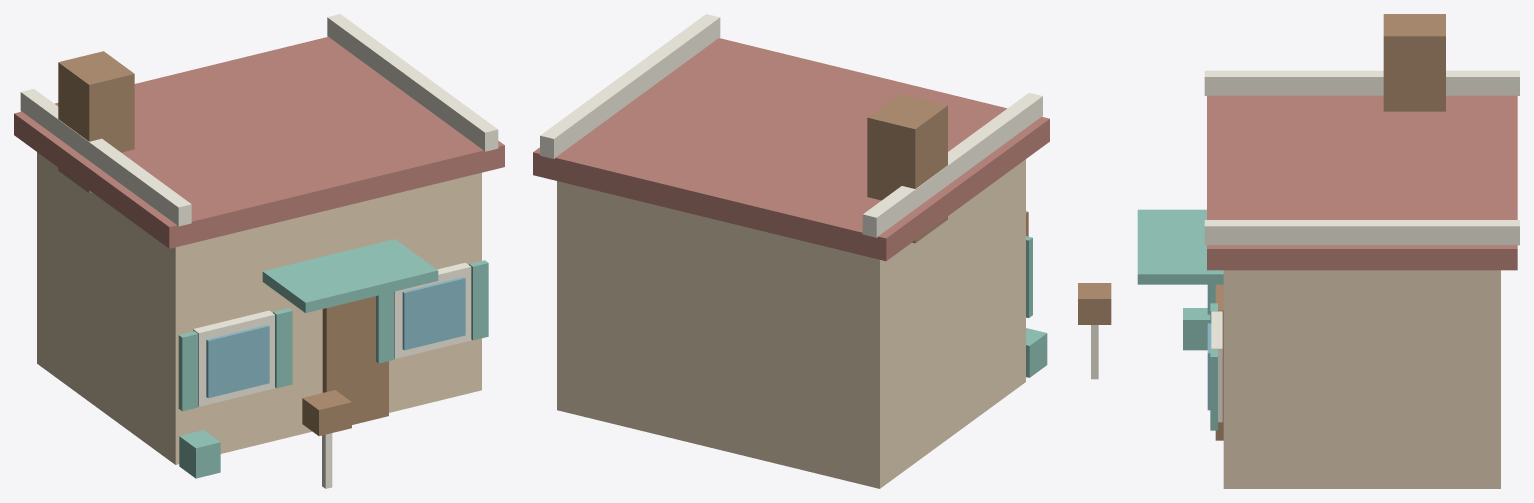
The model's file is home-06.glb.
The picture shows the model from 3 angles, left to right: view 1: azimuth 30°, elevation 25°; view 2: azimuth 150°, elevation 25°; view 3: azimuth 270°, elevation 25°; orthographic projection. The views are drawn at different scales.
Parts seen in each view (by area): view 1: individual walls.005, flat parapet roof.001, letterbox post.004, entrance awning.001, front door.006, window pane.003; view 2: individual walls.005, flat parapet roof.001, letterbox post.004, front door.006, entrance awning.001; view 3: individual walls.005, flat parapet roof.001, letterbox post.004, front door.006, entrance awning.001, window pane.003.
Boxes of the visible parts, bbox=[...] form: individual walls.005: bbox=[37, 152, 481, 464]; flat parapet roof.001: bbox=[14, 36, 504, 248]; letterbox post.004: bbox=[20, 14, 498, 488]; entrance awning.001: bbox=[178, 239, 488, 478]; front door.006: bbox=[58, 51, 388, 435]; window pane.003: bbox=[206, 277, 465, 398]; individual walls.005: bbox=[557, 159, 1025, 488]; flat parapet roof.001: bbox=[533, 38, 1049, 261]; letterbox post.004: bbox=[540, 14, 1042, 237]; front door.006: bbox=[867, 93, 1028, 243]; entrance awning.001: bbox=[1026, 236, 1047, 377]; individual walls.005: bbox=[1223, 270, 1500, 488]; flat parapet roof.001: bbox=[1207, 95, 1517, 270]; letterbox post.004: bbox=[1091, 70, 1519, 422]; front door.006: bbox=[1078, 14, 1445, 440]; entrance awning.001: bbox=[1137, 209, 1223, 430]; window pane.003: bbox=[1207, 284, 1211, 410].
Bounding box in the file's own units: 4.05 × 3.72 × 4.62.
